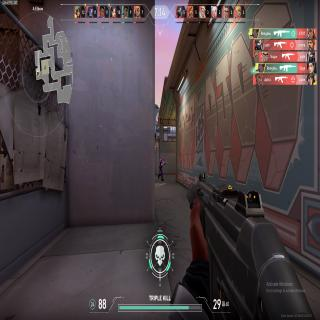ENEMY-BODY: (157, 155, 165, 182)
ENEMY-HEAD: (161, 156, 164, 161)
